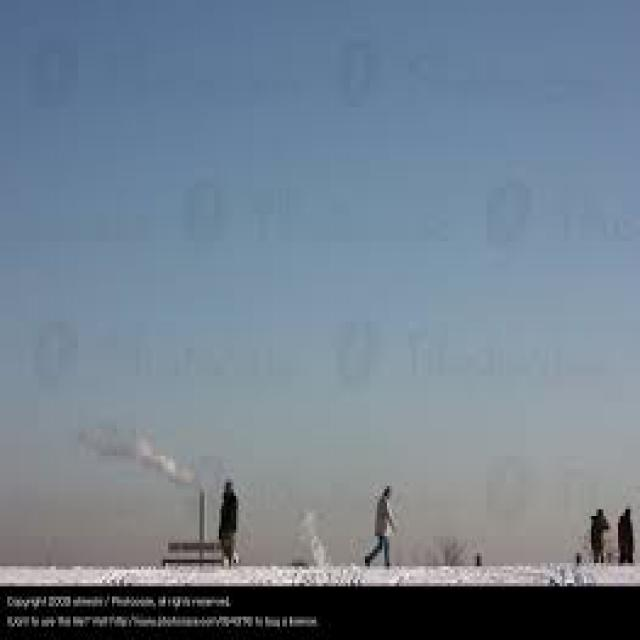smoke: (73, 405, 195, 496)
